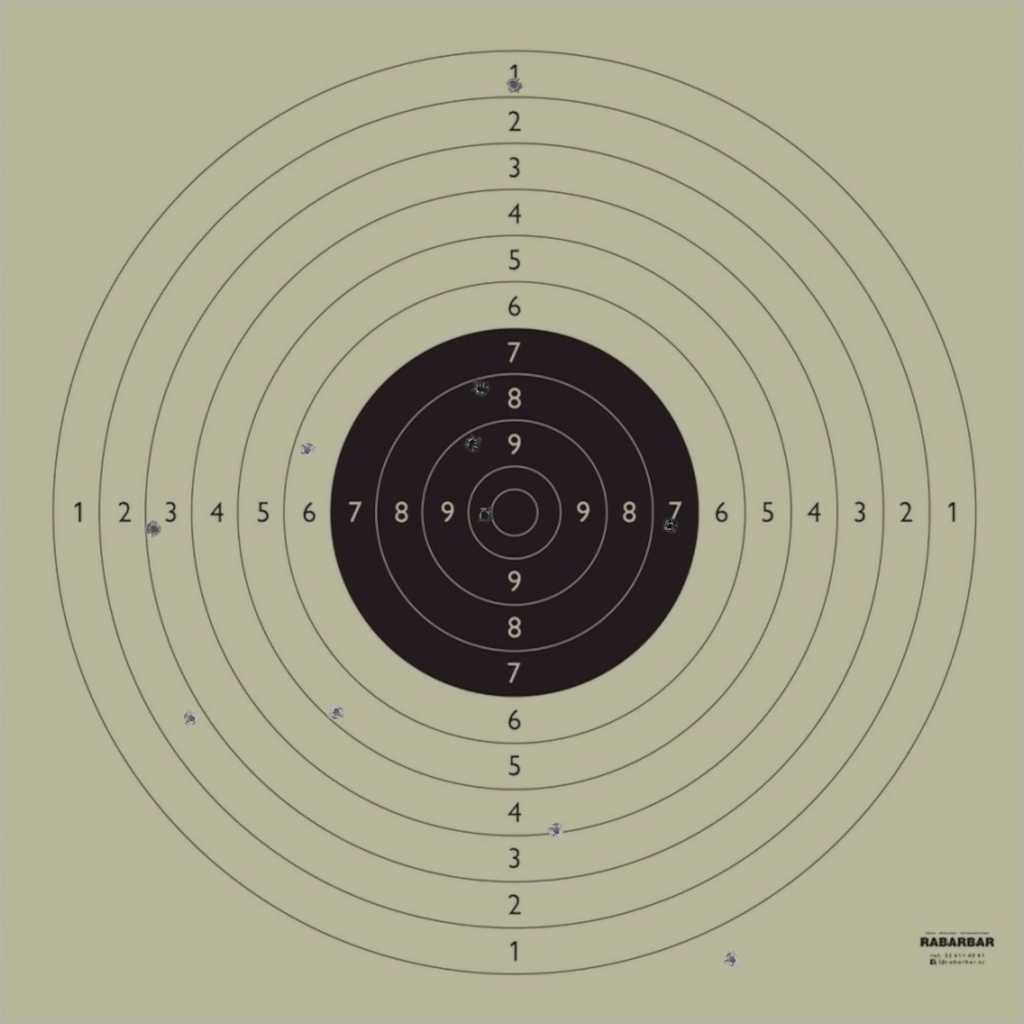0 punktow: (723, 951, 741, 969)
1 punkt: (505, 76, 523, 94)
10 punktow: (476, 506, 494, 524)
2 punkty: (182, 709, 200, 728)
3 punkty: (145, 520, 163, 538)
4 punkty: (547, 821, 565, 840)
5 punktow: (327, 703, 346, 721)
6 punktow: (298, 441, 316, 460)
7 punktow: (660, 517, 679, 536)
8 punktow: (471, 379, 489, 398)
9 punktow: (463, 434, 482, 452)
